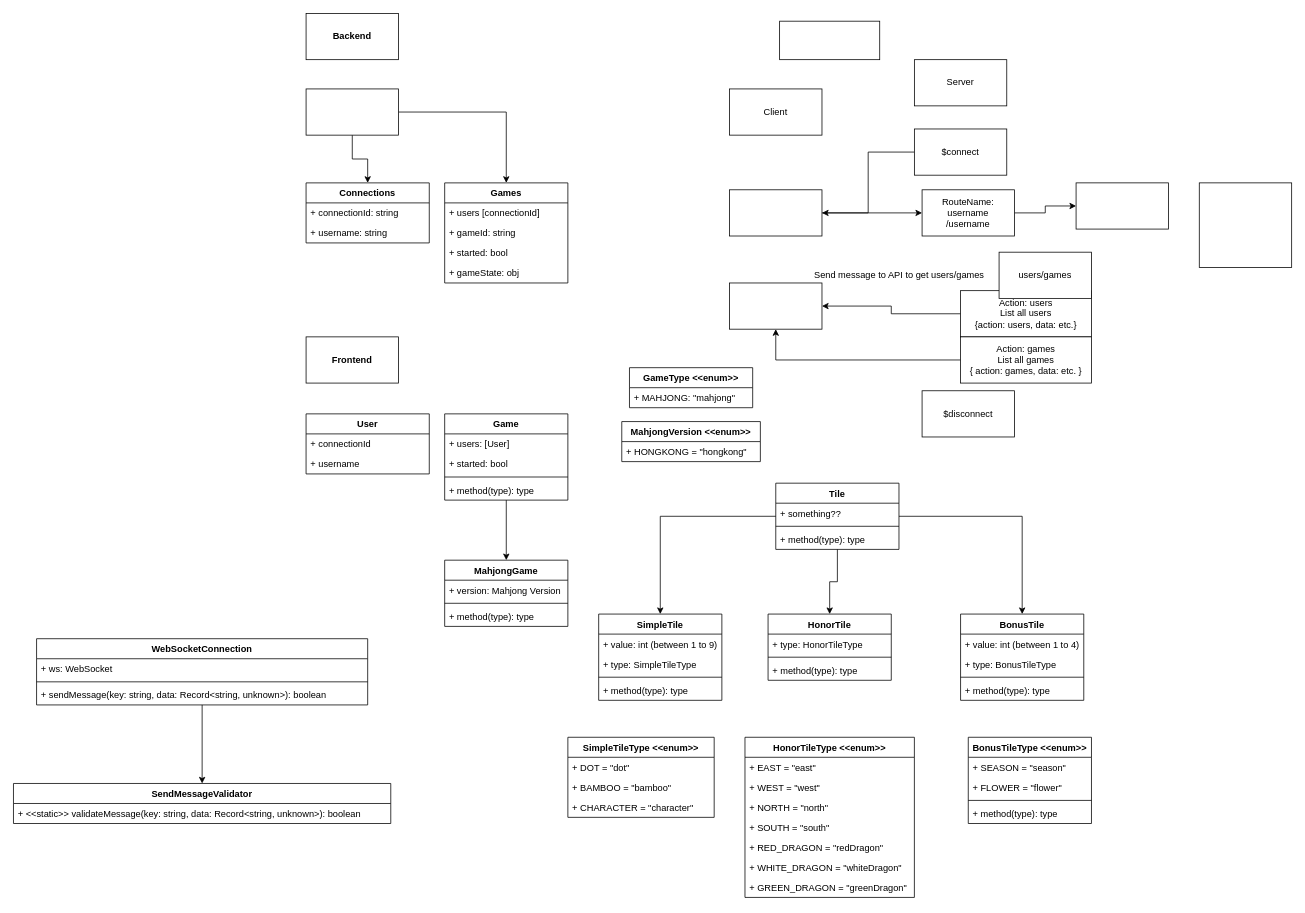
The diagram is 1305 pixels wide and 913 high, and some of its shapes have lost their labels. Here are the shapes that lost their labels. From the top down, the centre of each, then its label:
At pixel 829 40: "Websocket Messages".
At pixel 351 111: "DynamoDB".
At pixel 775 212: "onopen".
At pixel 1121 205: "Write to ConnectionsTable: include username".
At pixel 1245 225: "Routes: username users creategame games".
At pixel 775 305: "LobbyPage Listeners: { action: users } { action: games }".
